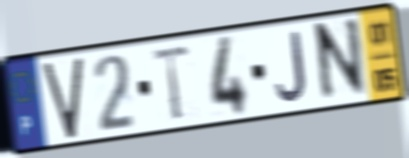2: (92, 52, 136, 136)
4: (207, 32, 251, 119)
J: (273, 29, 310, 106)
N: (315, 13, 368, 108)
T: (151, 42, 193, 124)
V: (40, 53, 85, 142)
